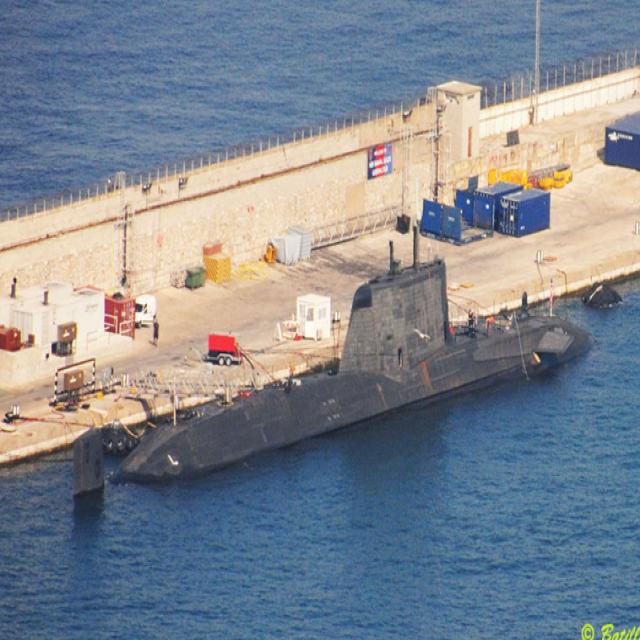submarine: (71, 255, 590, 497)
